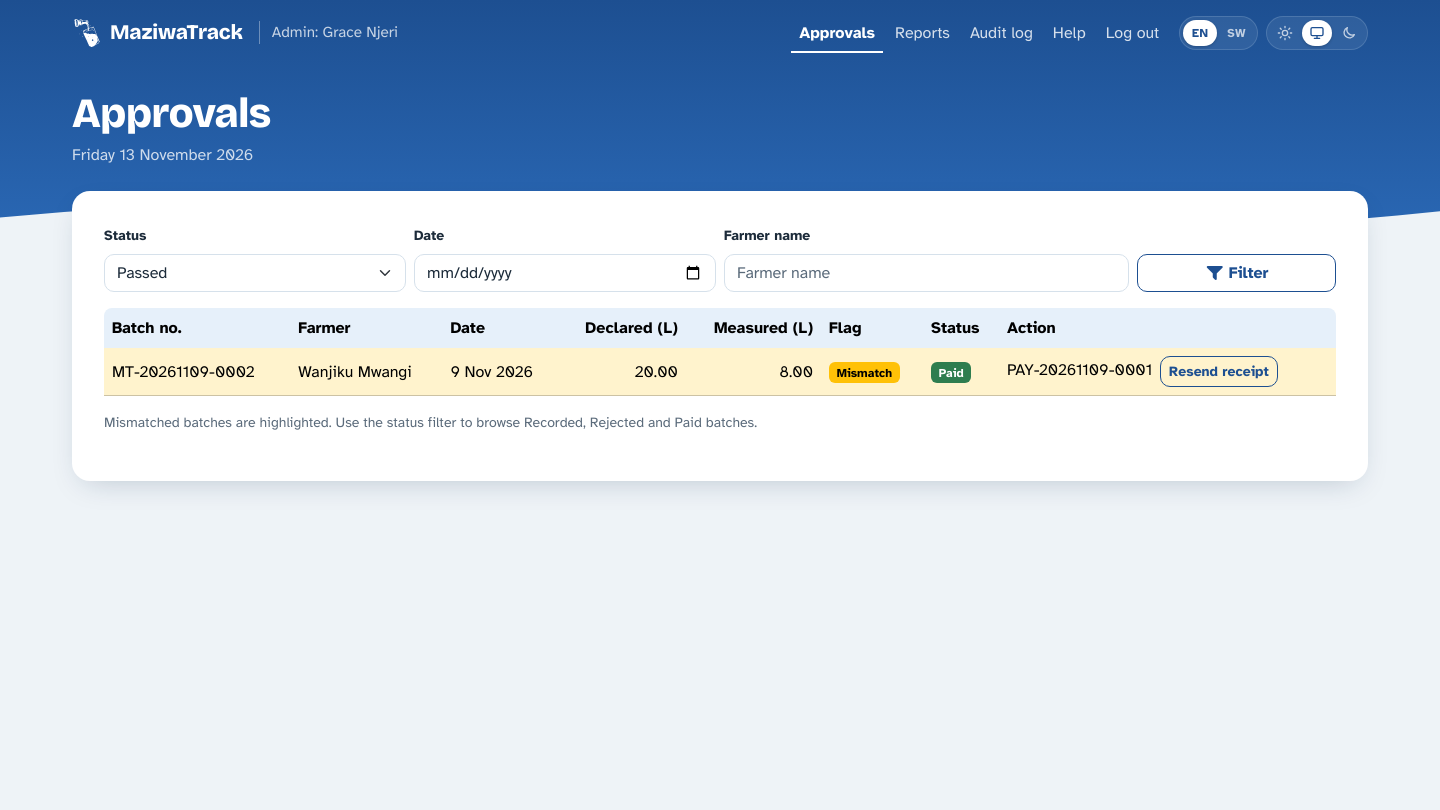
Test case: Approvals › P5: offers "Resend receipt" only for paid batches whose email failed
Step 1. Click the button "Resend receipt" → (1219, 372), box [1160,356,1278,387]
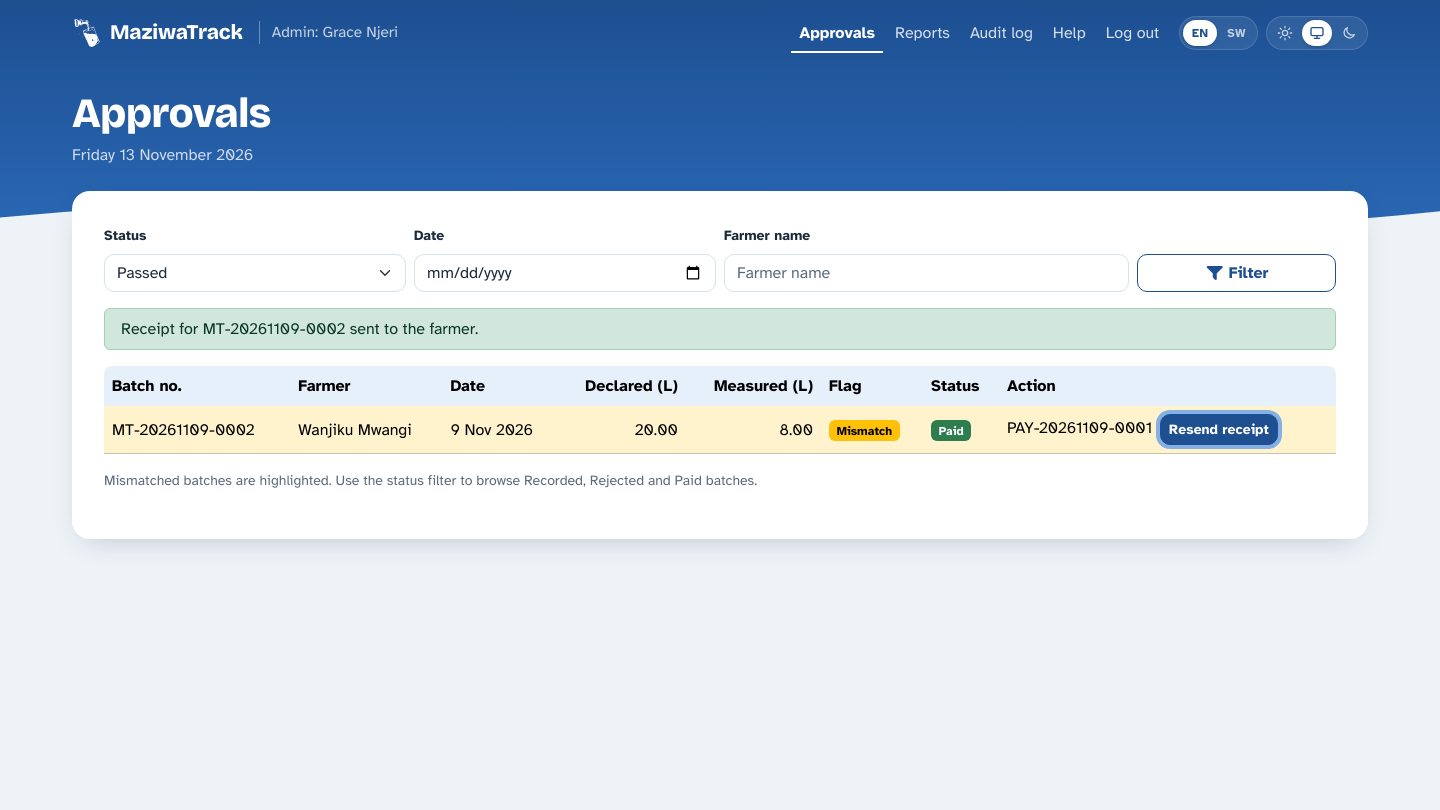
Expected: the text "Receipt for MT-20261109-0002 sent to the farmer." is shown, [104,308,1336,350]
